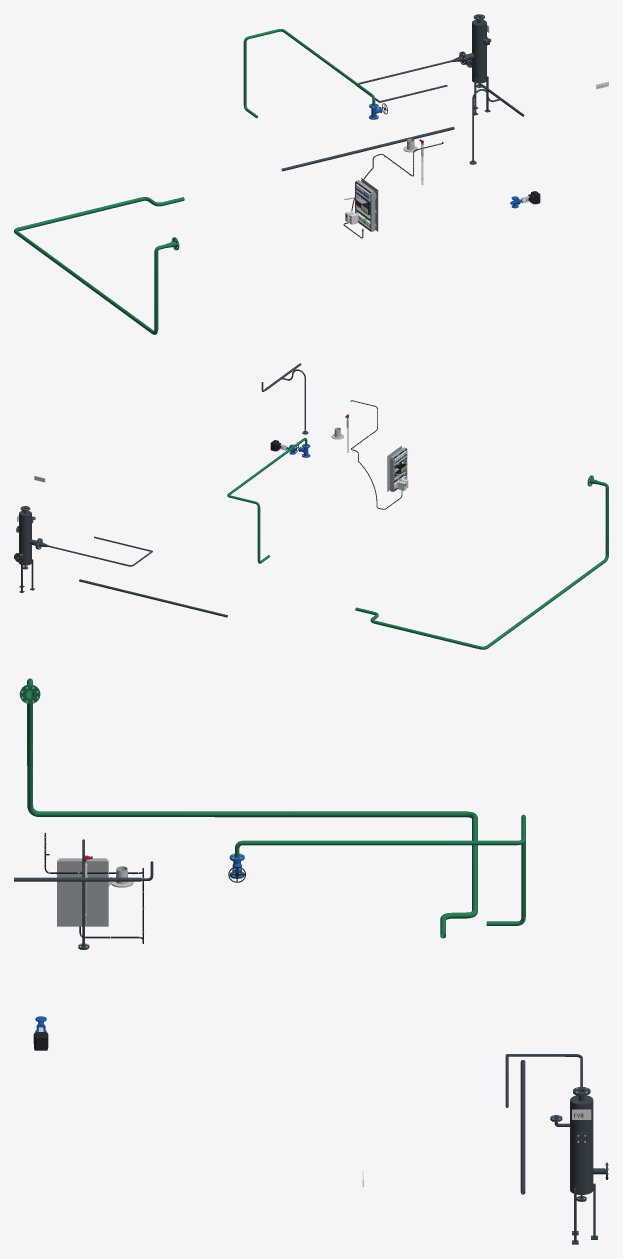
Rendered from s4000-5-eBBobK_O.glb.
The picture shows the model from 3 angles, top to bottom: view 1: azimuth 30°, elevation 25°; view 2: azimuth 150°, elevation 25°; view 3: azimuth 270°, elevation 25°; orthographic projection. The views are drawn at different scales.
Parts seen in each view (by area): view 1: deaerator_feed / green, separator_fv8 / dark, cabinet_interior / cabinet_interior_0.npz, bottom_discharge / dark, from_economizer / green, pressure_header / dark; view 2: deaerator_feed / green, separator_fv8 / dark, cabinet_interior / cabinet_interior_0.npz, bottom_discharge / dark, from_economizer / green; view 3: deaerator_feed / green, cabinet_interior / cabinet_interior_0.npz, separator_fv8 / dark, from_economizer / green, pressure_header / dark, direct_inlet / green, bottom_discharge / dark.
Boxes of the visible parts, x1,y1,x2,y2 form: deaerator_feed / green: (14, 197, 184, 334); separator_fv8 / dark: (462, 14, 491, 115); cabinet_interior / cabinet_interior_0.npz: (344, 178, 378, 231); bottom_discharge / dark: (281, 127, 454, 171); from_economizer / green: (243, 29, 314, 118); pressure_header / dark: (469, 71, 524, 164); deaerator_feed / green: (355, 475, 608, 649); separator_fv8 / dark: (14, 506, 39, 592); cabinet_interior / cabinet_interior_0.npz: (387, 445, 407, 491); bottom_discharge / dark: (79, 579, 227, 617); from_economizer / green: (227, 474, 269, 563); deaerator_feed / green: (19, 678, 477, 938); cabinet_interior / cabinet_interior_0.npz: (57, 858, 111, 926); separator_fv8 / dark: (550, 1087, 607, 1244); from_economizer / green: (421, 814, 525, 925); pressure_header / dark: (14, 839, 153, 949); direct_inlet / green: (235, 840, 395, 857); bottom_discharge / dark: (520, 1060, 525, 1194).
Bounding box in the file's own units: 9.48 × 2.87 × 5.58.
